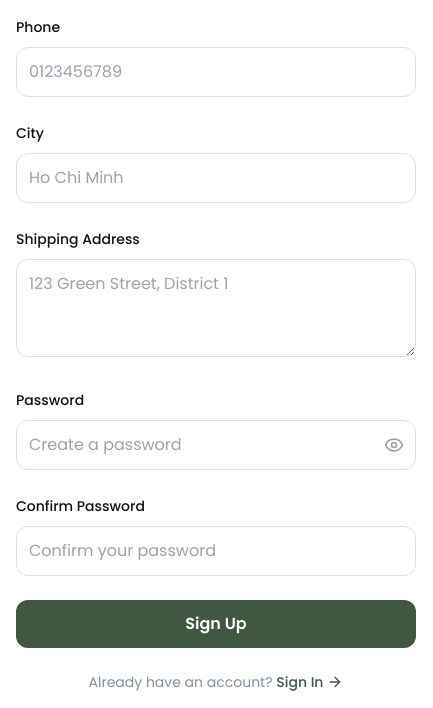
Test case: RegisterPage Component › shows password mismatch error
(page scrolled)
In the password field with placeholder "Create a password": {"x": 216, "y": 445} [16, 420, 416, 470], type "password123"
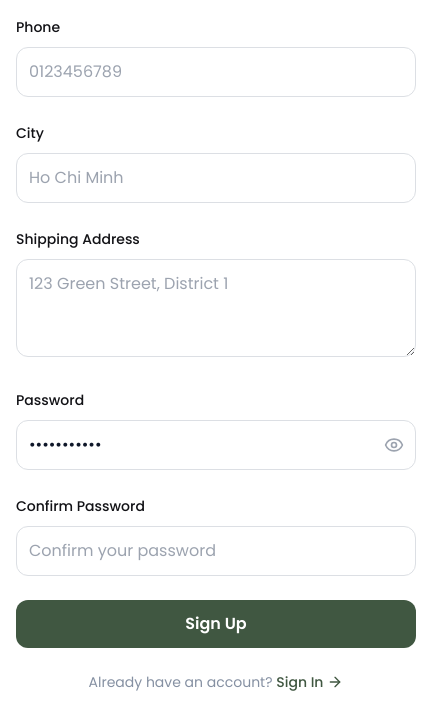
In the password field with placeholder "Confirm your password": {"x": 216, "y": 551} [16, 526, 416, 576], type "password124"
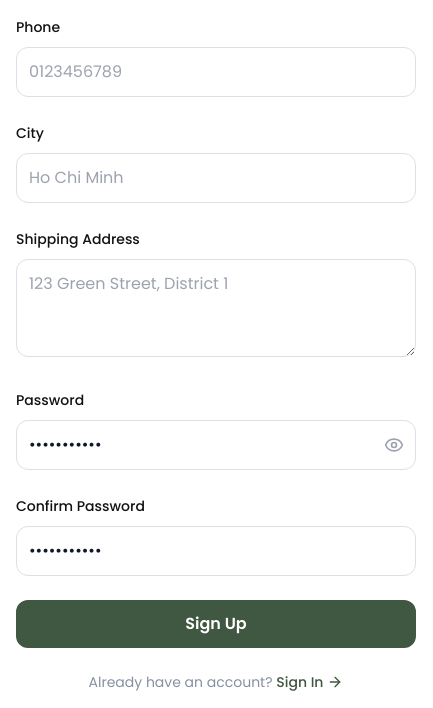
Click the button "Sign Up": {"x": 216, "y": 624} [16, 600, 416, 648]
(page scrolled)
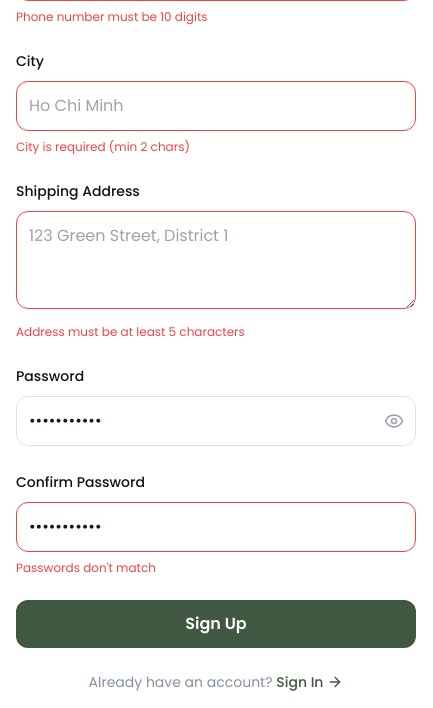
Expected: the text "Passwords don't match" is shown, [16, 559, 156, 576]
